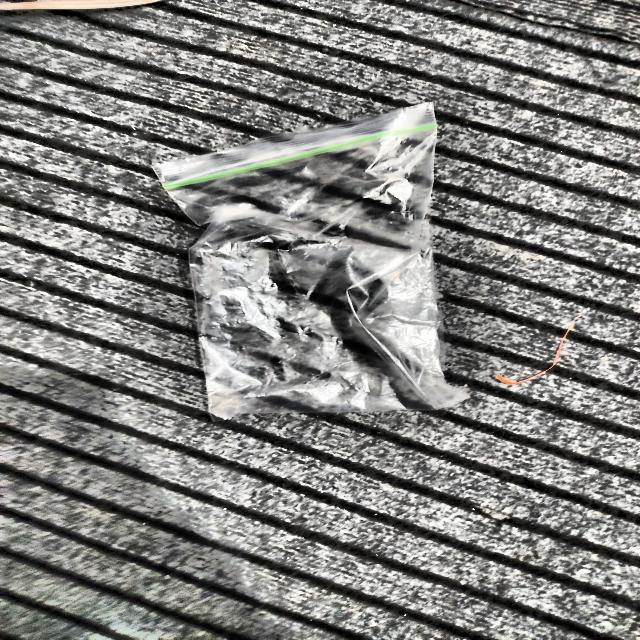plastic bag: (155, 102, 465, 419)
